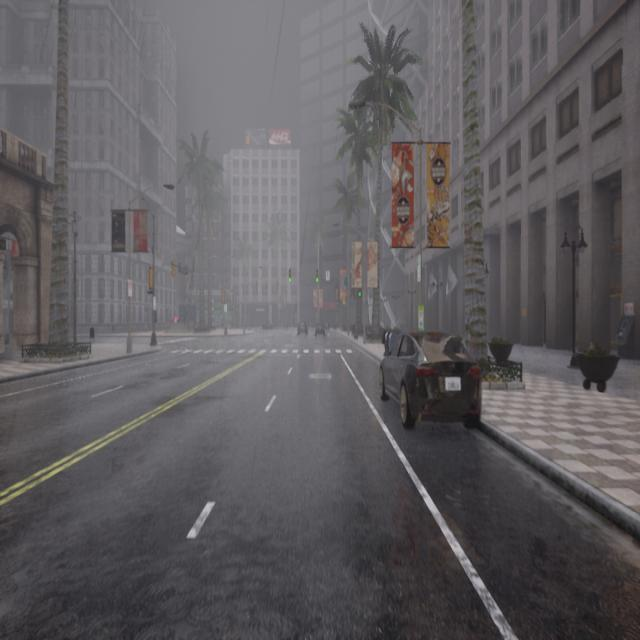bien_chi_dan: (288, 276, 294, 286), (356, 292, 360, 300), (316, 278, 321, 284)
bien_nguy_hiem: (314, 269, 324, 291), (353, 283, 362, 305), (287, 268, 294, 288)
